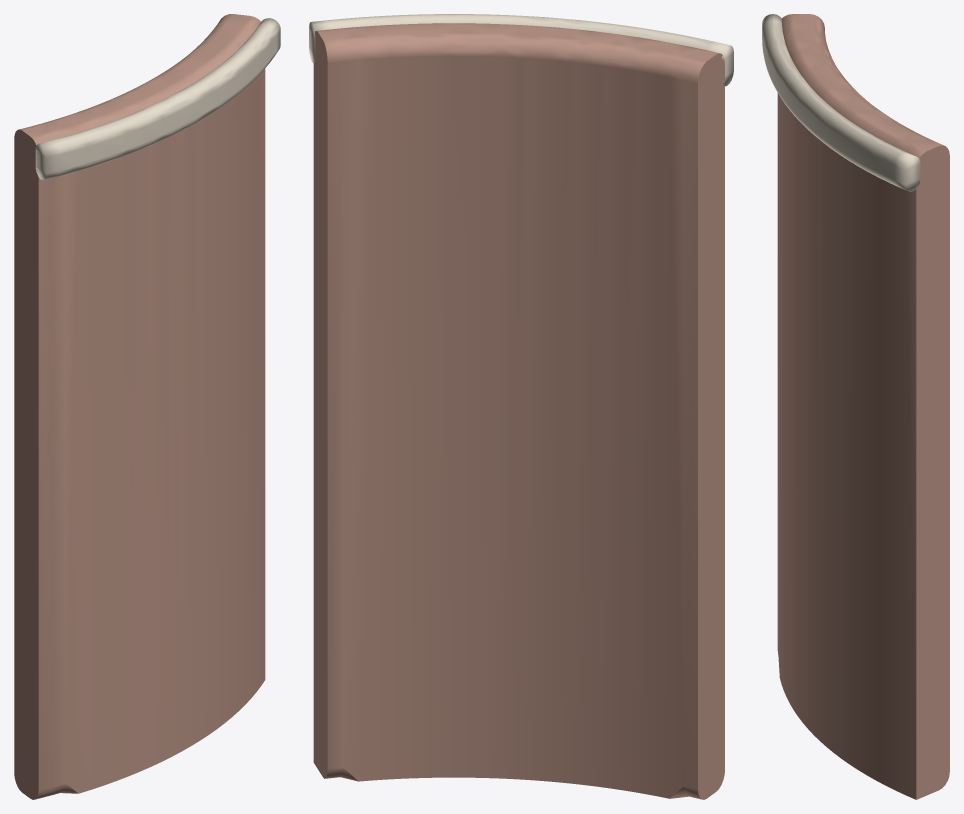
Rendered from ArcWall_R2_A45.glb.
The picture shows the model from 3 angles, left to right: view 1: azimuth 30°, elevation 25°; view 2: azimuth 150°, elevation 25°; view 3: azimuth 270°, elevation 25°; orthographic projection. The views are drawn at different scales.
Visible parts, largest first — view 1: PBK_substrate.001, PBK_floor_band.001; view 2: PBK_substrate.001, PBK_floor_band.001; view 3: PBK_substrate.001, PBK_floor_band.001.
Part boxes in pixels (x1,y1,x2,y2): PBK_substrate.001: [14, 14, 265, 799]; PBK_floor_band.001: [35, 18, 280, 180]; PBK_substrate.001: [313, 23, 724, 799]; PBK_floor_band.001: [309, 14, 733, 86]; PBK_substrate.001: [777, 14, 949, 799]; PBK_floor_band.001: [762, 14, 920, 191].
Size of the model in its own units: 1.46 by 3 by 0.7922.
